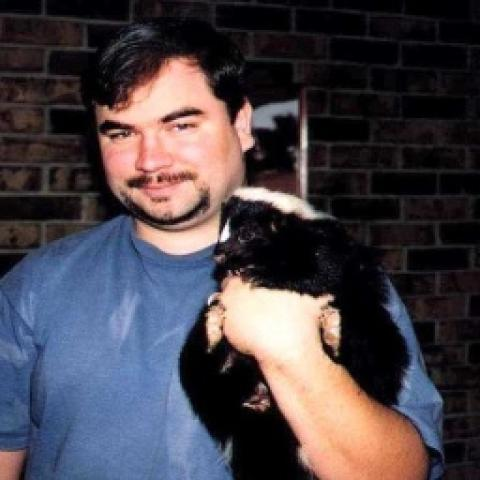small_animal: (174, 184, 446, 478)
